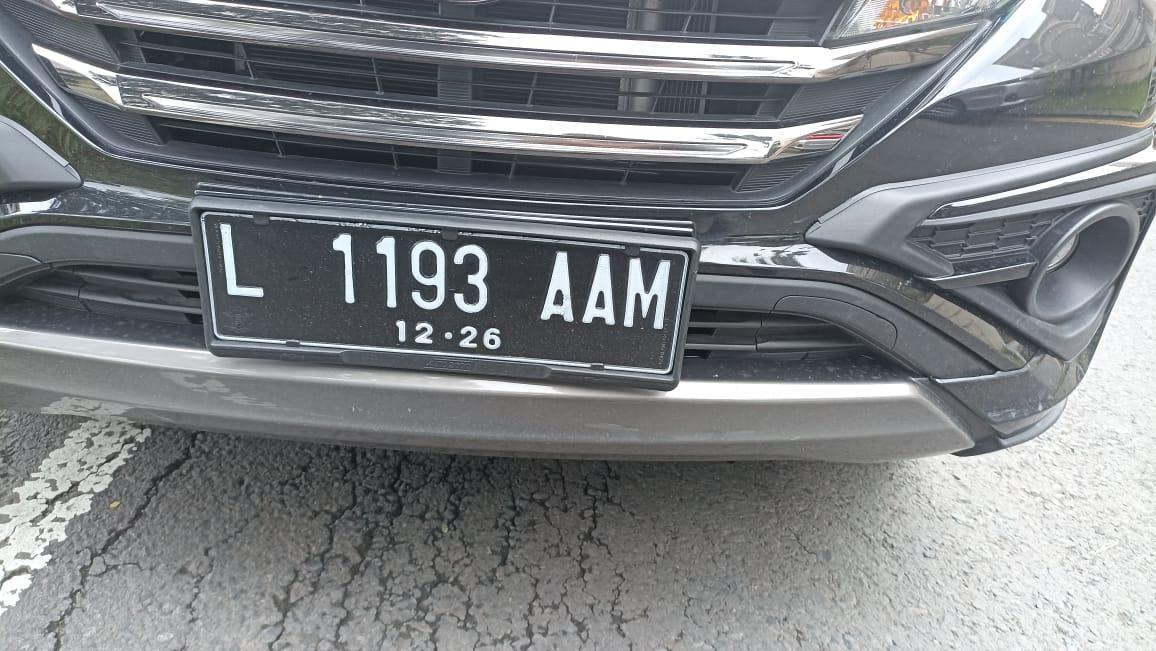plat: (196, 203, 695, 391)
